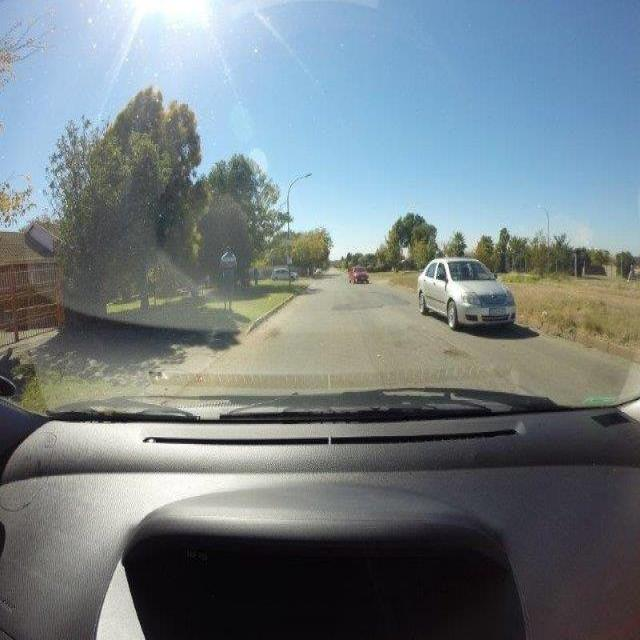lubang: (439, 341, 470, 363)
